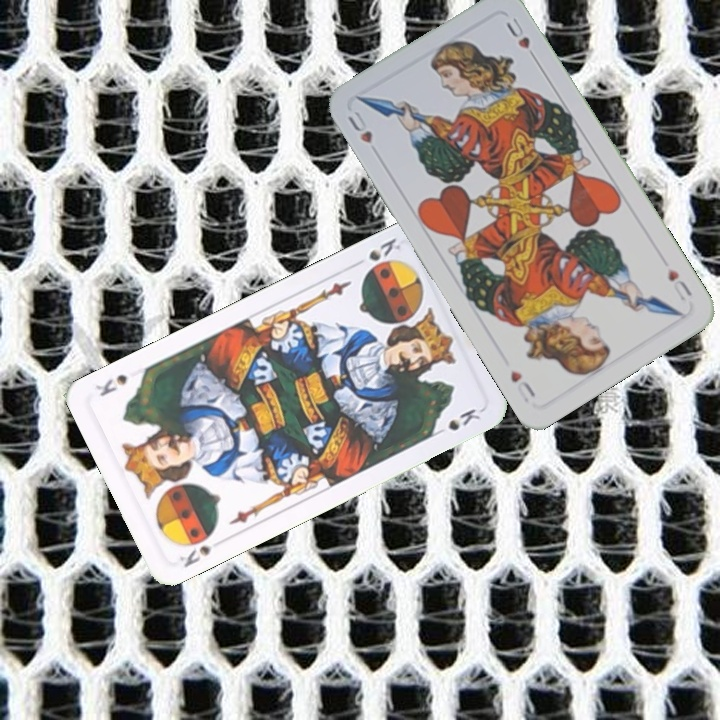HU: (663, 264, 695, 304), (343, 107, 375, 146)
SK: (349, 234, 404, 270), (175, 541, 216, 570)
